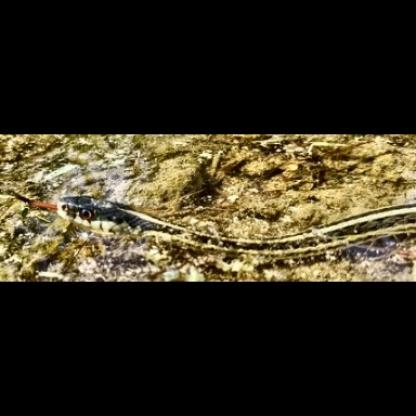Snake: (51, 184, 416, 268)
